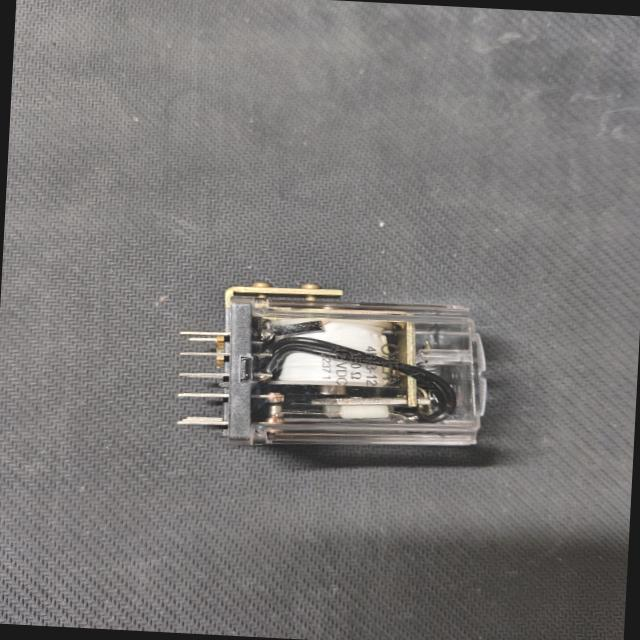relay: (147, 272, 520, 480)
